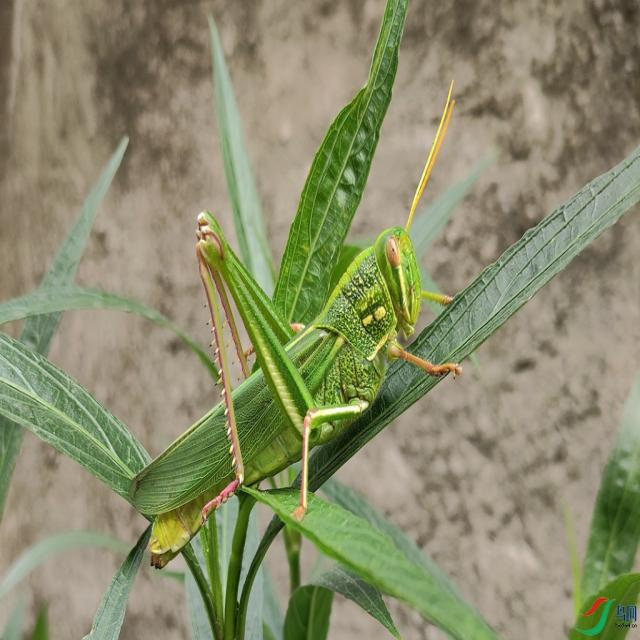ZhaMeng: (123, 91, 465, 578)
